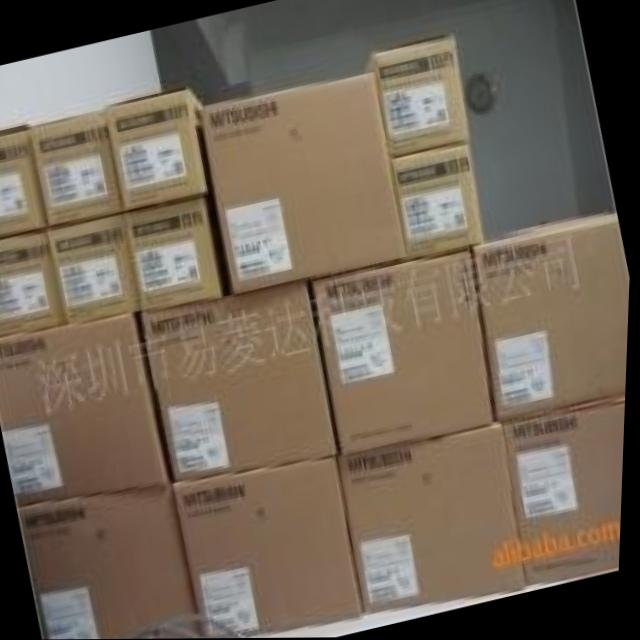box: (200, 72, 409, 290), (145, 279, 342, 482), (314, 250, 499, 454), (340, 423, 532, 615), (178, 455, 367, 639), (0, 314, 171, 506), (472, 217, 631, 422), (21, 482, 208, 640), (507, 397, 628, 585), (108, 87, 213, 213), (366, 35, 470, 156), (128, 195, 225, 312), (28, 109, 124, 227), (391, 144, 484, 259), (48, 212, 143, 321), (0, 230, 67, 334), (0, 125, 47, 236)
